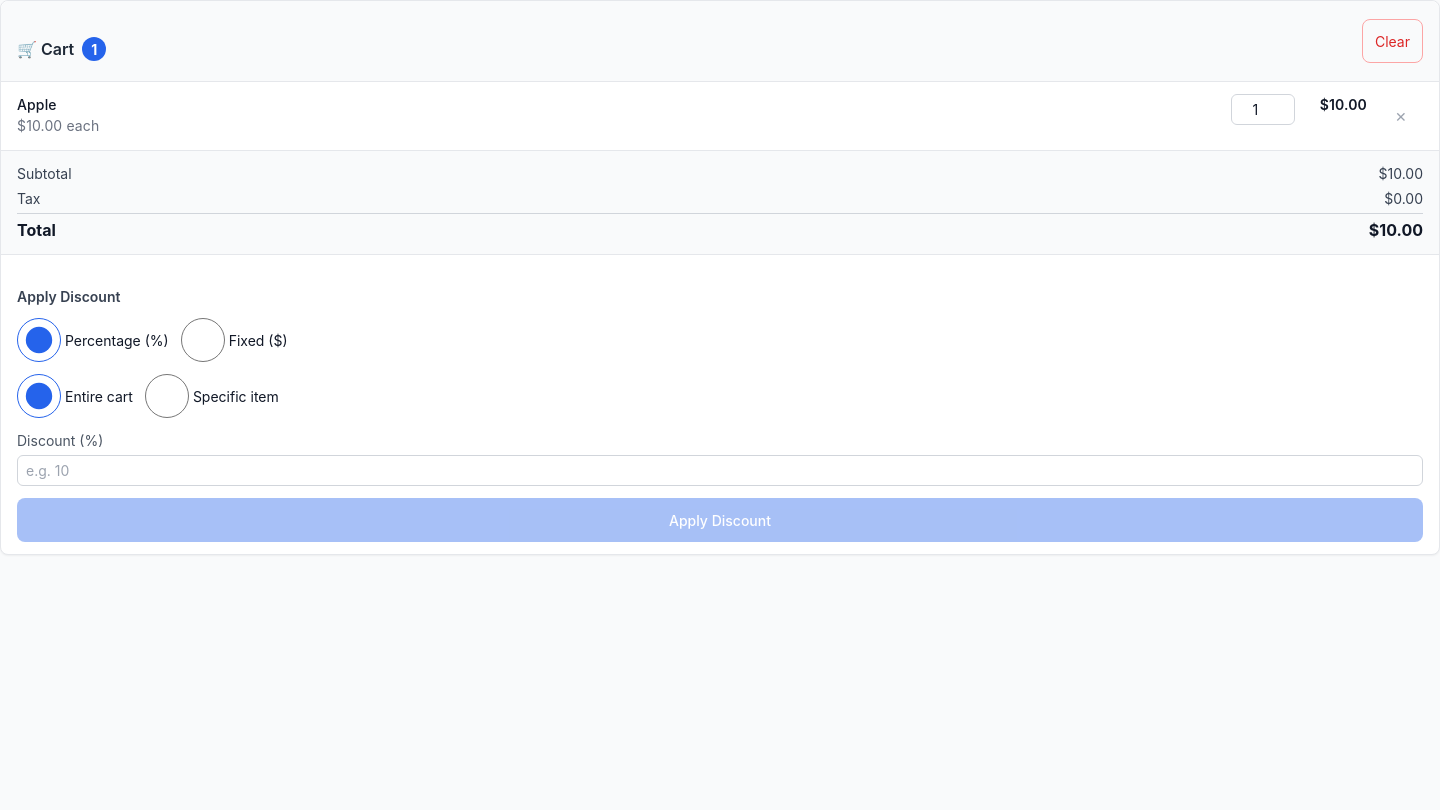
Scenario: ShoppingCart – discount application › applies a percentage cart discount and updates totals
// Type the discount value (percentage, cart target are defaults)
Step 1. Type "10" into the number field named "discount percentage" → (720, 471), box [17,455,1423,486]
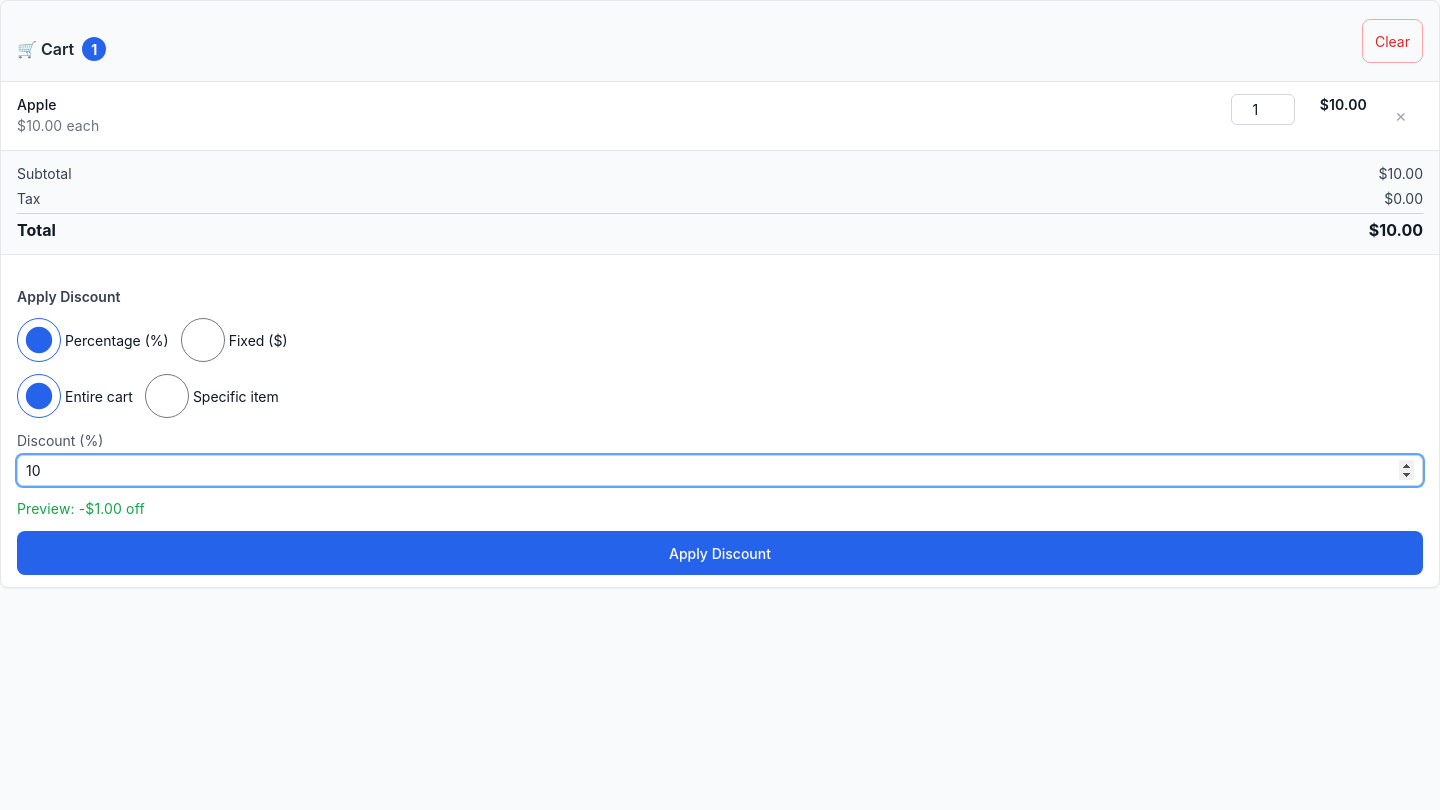
Expected: the button "Apply Discount" is enabled
Step 2. Click the button "Apply Discount" → (720, 553), box [17,531,1423,575]
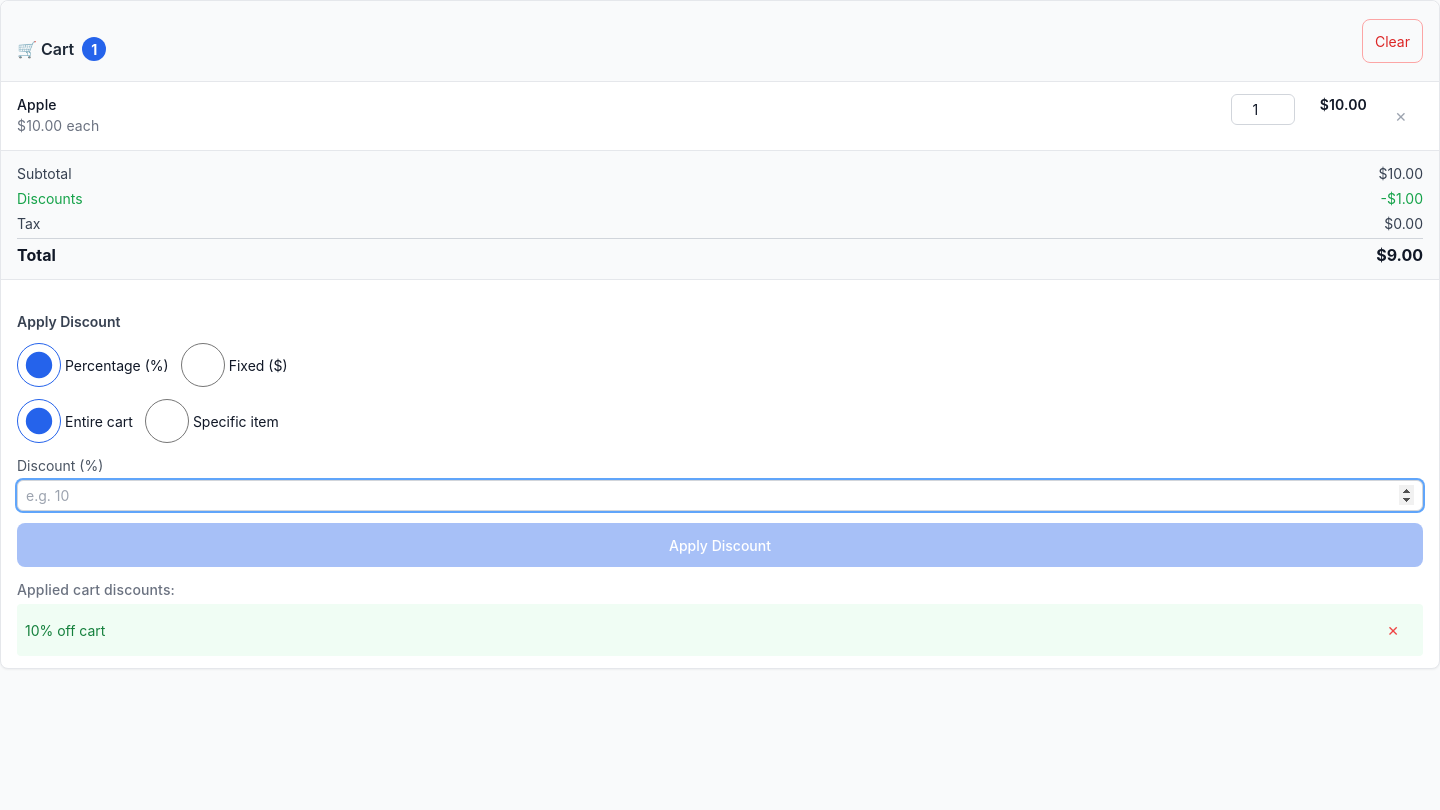
Expected: the element named "Discounts: -$1.00" is shown, [17,188,1423,209]
Expected: the text named "Total: $9.00" is shown, [1376,243,1423,267]
